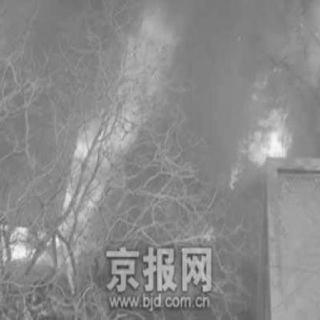Fire: (6, 6, 192, 274)
